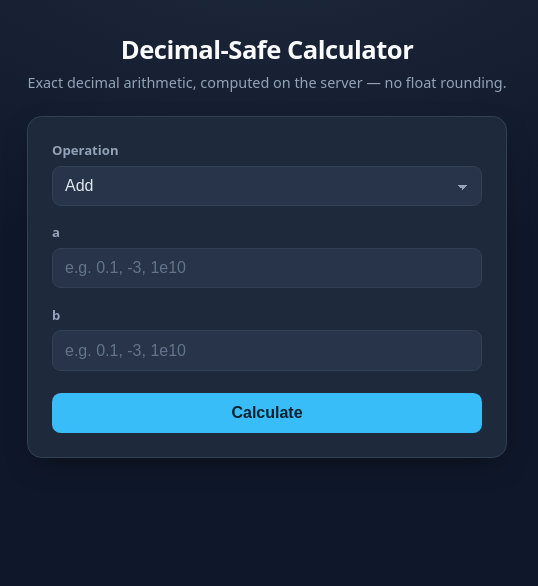
<App /> › submits and shows the result string exactly as returned
Type "0.1" into the field labelled "a". click: (267, 268)
box: [52,248,482,288]
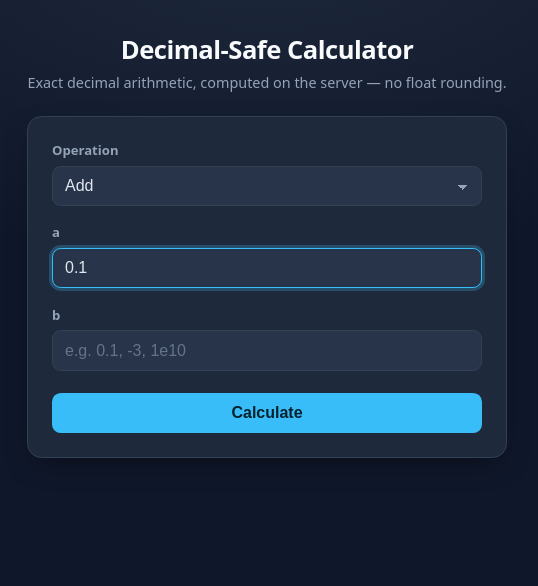
Type "0.2" into the field labelled "b". click: (267, 351)
box: [52,330,482,371]
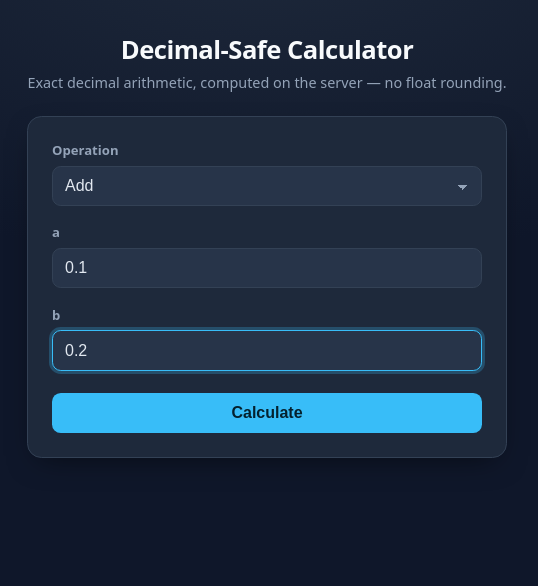
Click the button "Calculate". click: (267, 413)
box: [52,393,482,433]
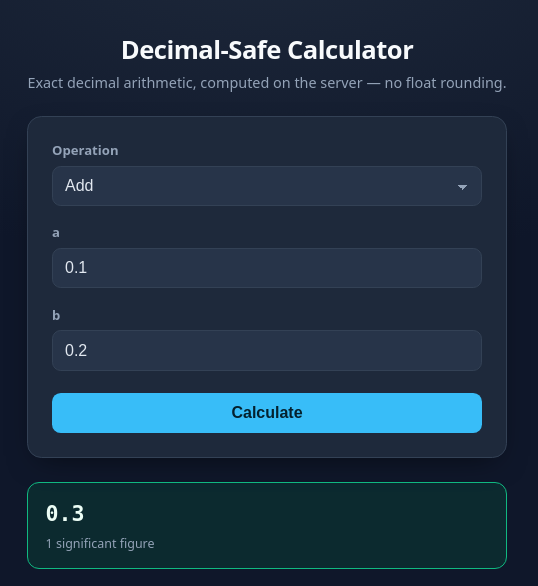
Now the text "0.3" is shown, box [46,501,85,526]
